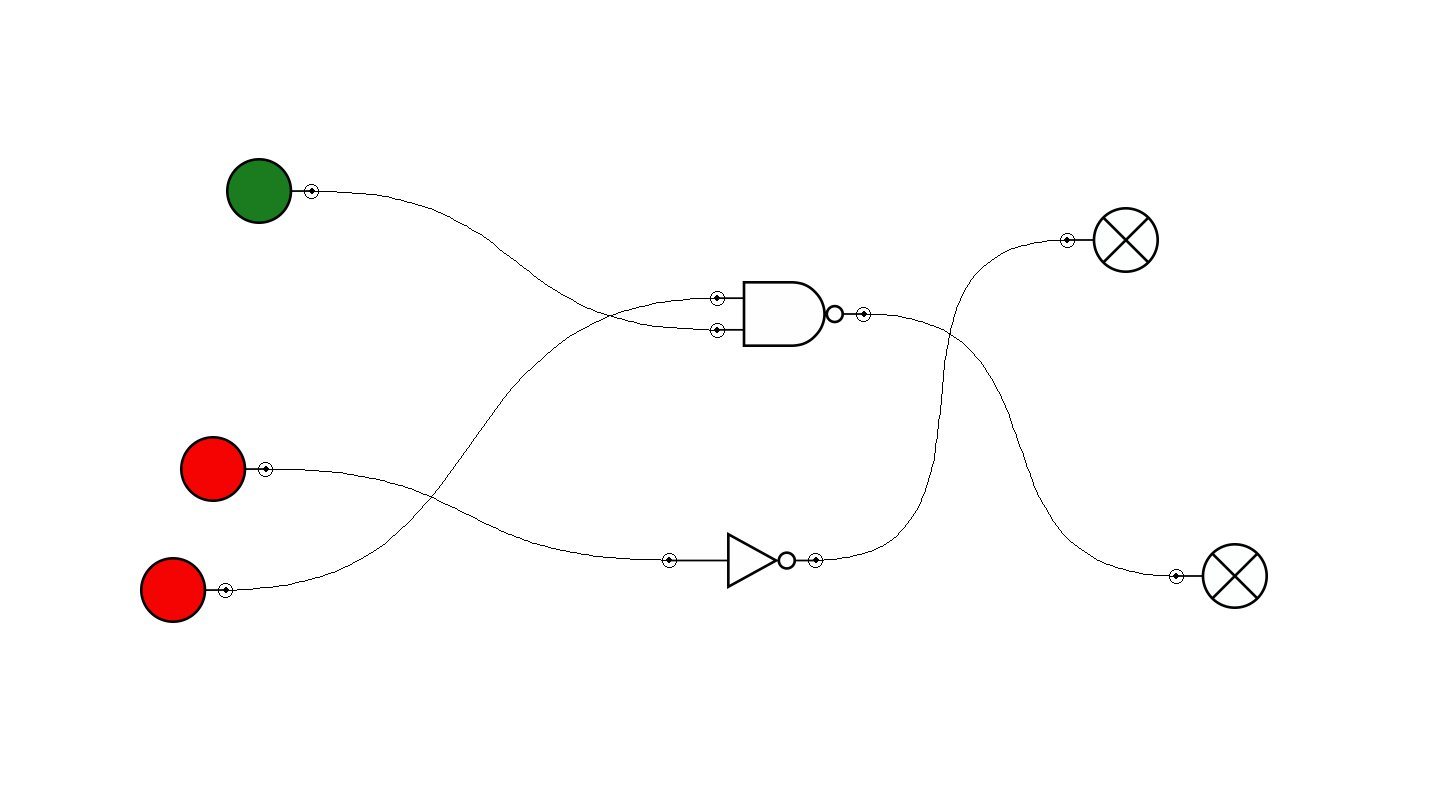bulb: (1169, 543, 1268, 609), (1060, 207, 1159, 273)
nand: (710, 281, 871, 347)
not: (662, 532, 823, 589)
switch_False: (180, 436, 273, 502), (140, 557, 233, 623)
switch_True: (226, 158, 319, 224)
